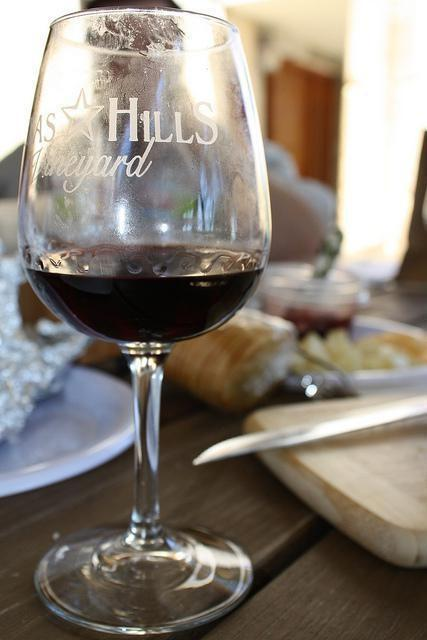glass-wine: (14, 7, 276, 639)
